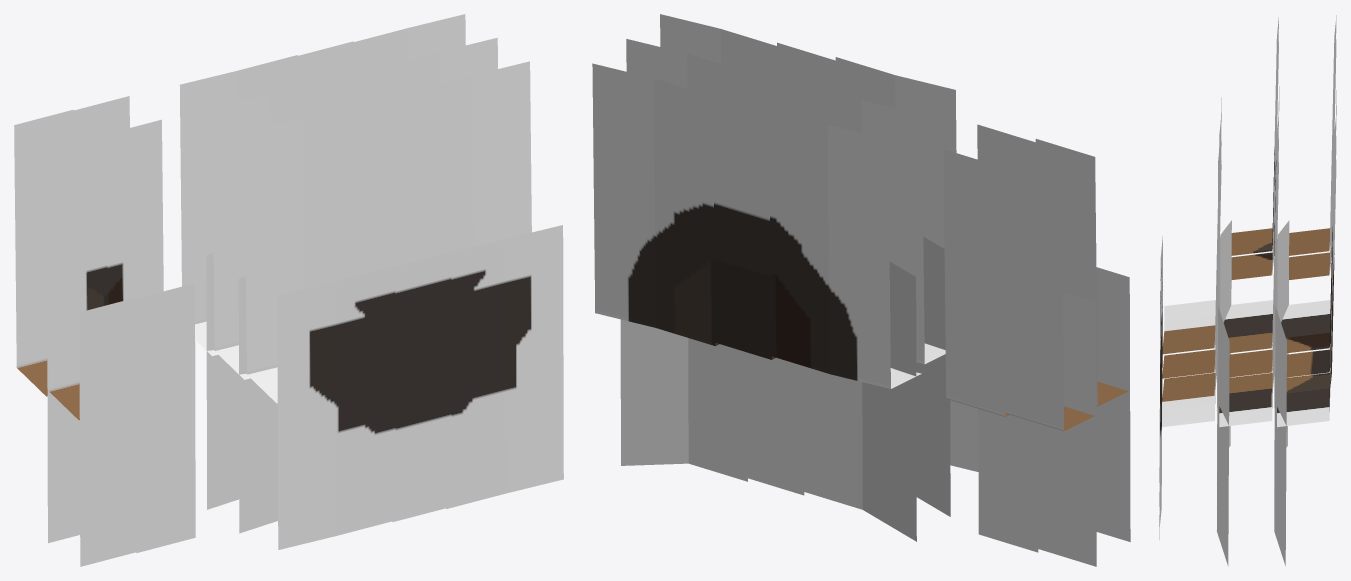
The model's file is tileset_cave01.FBX.
3 renders of one model, left to right at view 1: azimuth 30°, elevation 25°; view 2: azimuth 150°, elevation 25°; view 3: azimuth 270°, elevation 25°, orthographic. The views are drawn at different scales.
Parts seen in each view (by area): view 1: cave_piece0100, cave_piece1000, cave_piece1011, cave_piece1100, cave_piece0111, cave_piece0110, cave_piece0010, cave_piece1101, cave_piece0001, cave_piece1001, cave_piece0011, cave_piece1110 (+1 smaller); view 2: cave_piece0010, cave_piece0001, cave_piece1101, cave_piece1110, cave_piece0011, cave_piece0110, cave_piece1011, cave_piece0100, cave_piece1000, cave_piece1001, cave_piece0111, cave_piece1100 (+1 smaller); view 3: cave_piece1001, cave_piece0001, cave_piece1000, cave_piece0110, cave_piece0010, cave_piece0100, cave_piece1100, cave_piece0111, cave_piece1110, cave_piece1111, cave_piece0011, cave_piece1011 (+1 smaller).
Boxes of the visible parts, x1,y1,x2,y2 form: cave_piece0100: [244, 102, 395, 549]; cave_piece1000: [418, 61, 563, 509]; cave_piece1011: [46, 133, 139, 566]; cave_piece1100: [362, 88, 451, 522]; cave_piece0111: [106, 119, 195, 553]; cave_piece0110: [212, 78, 330, 533]; cave_piece0010: [179, 55, 297, 509]; cave_piece1101: [14, 109, 79, 543]; cave_piece0001: [353, 14, 465, 73]; cave_piece1001: [385, 37, 497, 96]; cave_piece0011: [297, 41, 353, 86]; cave_piece1110: [73, 96, 129, 141]; cave_piece0010: [768, 106, 921, 541]; cave_piece0001: [592, 63, 747, 481]; cave_piece1101: [1002, 163, 1096, 566]; cave_piece1110: [943, 149, 1038, 552]; cave_piece0011: [709, 92, 804, 495]; cave_piece0110: [801, 81, 950, 516]; cave_piece1011: [1035, 139, 1130, 541]; cave_piece0100: [835, 57, 978, 471]; cave_piece1000: [660, 14, 780, 78]; cave_piece1001: [626, 39, 746, 103]; cave_piece0111: [977, 124, 1036, 173]; cave_piece1100: [777, 42, 836, 92]; cave_piece1001: [1217, 162, 1278, 566]; cave_piece0001: [1274, 160, 1336, 565]; cave_piece1000: [1159, 161, 1221, 539]; cave_piece0110: [1217, 86, 1279, 448]; cave_piece0010: [1274, 90, 1336, 463]; cave_piece0100: [1159, 97, 1221, 482]; cave_piece1100: [1159, 138, 1221, 506]; cave_piece0111: [1216, 42, 1278, 410]; cave_piece1110: [1274, 39, 1336, 407]; cave_piece1111: [1217, 139, 1278, 471]; cave_piece0011: [1274, 136, 1336, 487]; cave_piece1011: [1218, 17, 1278, 255].
Bounding box in the file's own units: 402 × 348 × 154.
